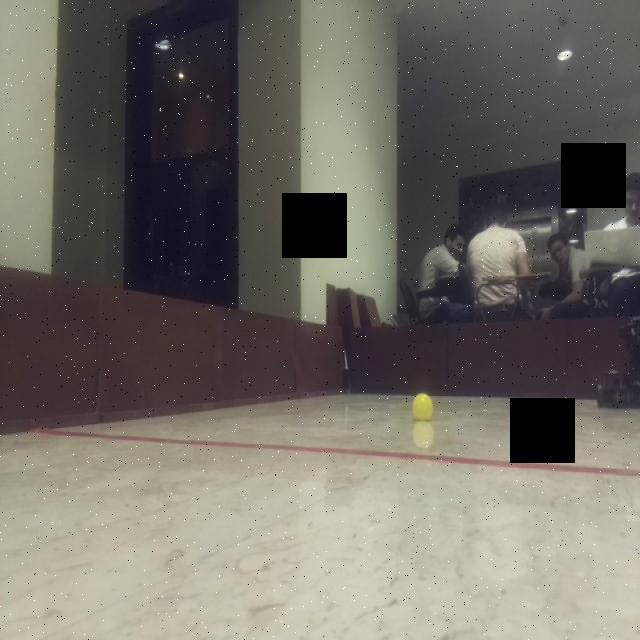ball: (407, 388, 438, 422)
